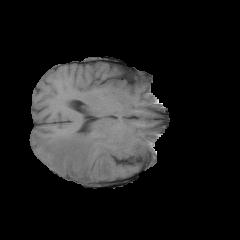glioma: (41, 132, 112, 181)
